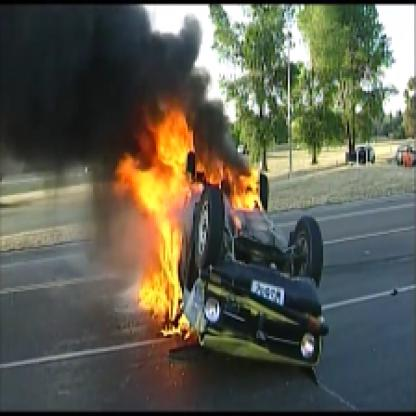Fire: (100, 93, 260, 329)
